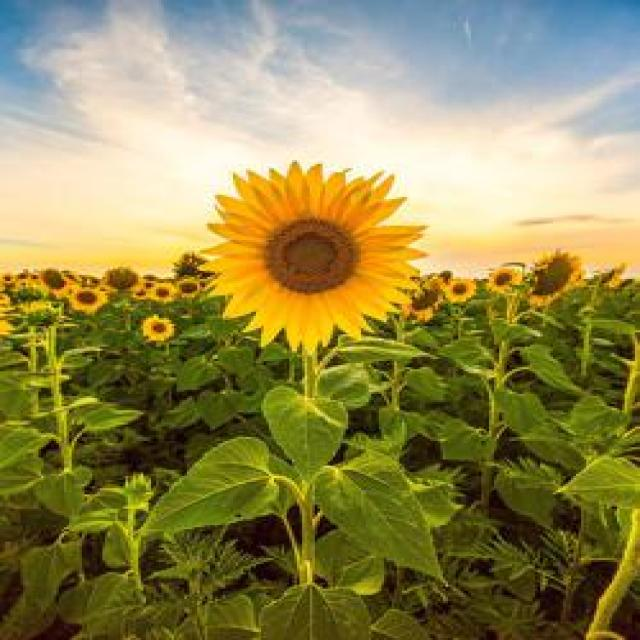sunflower: (180, 156, 424, 332), (528, 248, 586, 306), (67, 283, 110, 314), (134, 314, 180, 342), (487, 260, 522, 296), (448, 274, 479, 307)
